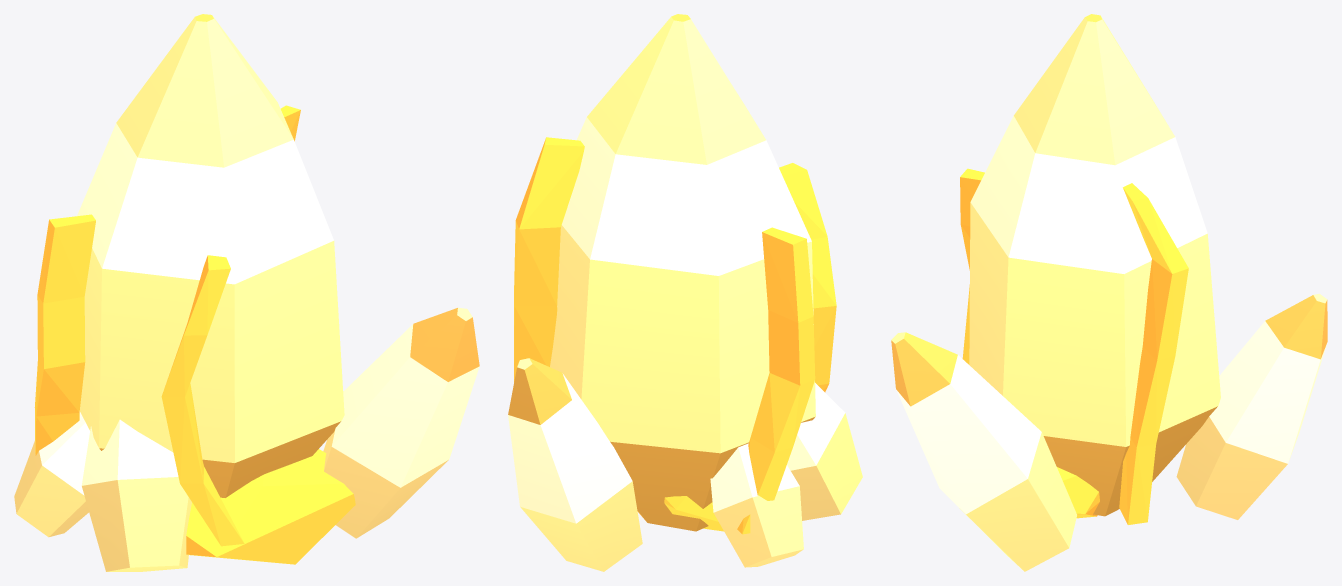
The model's file is sunshard.glb.
3 views of the same model, side by side, from view 1: azimuth 30°, elevation 25°; view 2: azimuth 150°, elevation 25°; view 3: azimuth 270°, elevation 25° (orthographic). The views are drawn at different scales.
Parts seen in each view (by area): view 1: shard; view 2: shard; view 3: shard.
Part boxes in pixels (<box>): shard: <box>14,14,479,571</box>; shard: <box>508,14,862,571</box>; shard: <box>891,14,1327,571</box>.
Bounding box in the file's own units: 0.4338 × 0.6395 × 0.5142.
